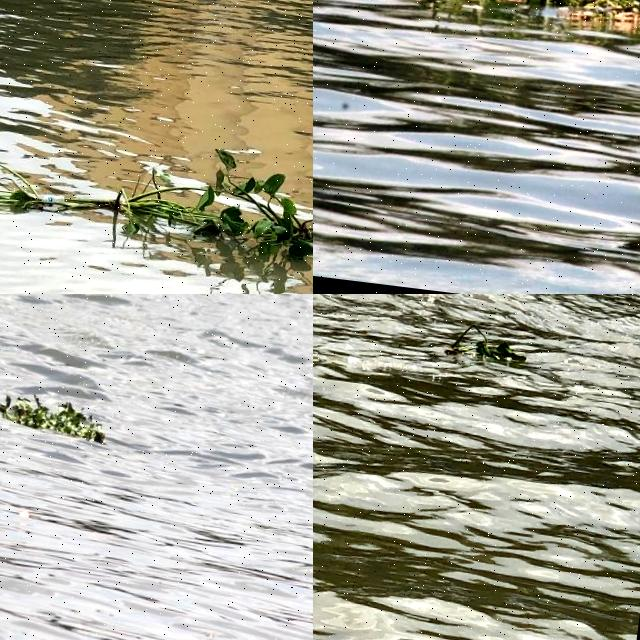water-hyacinth: (1, 126, 314, 287), (1, 387, 109, 449), (439, 320, 536, 370)
